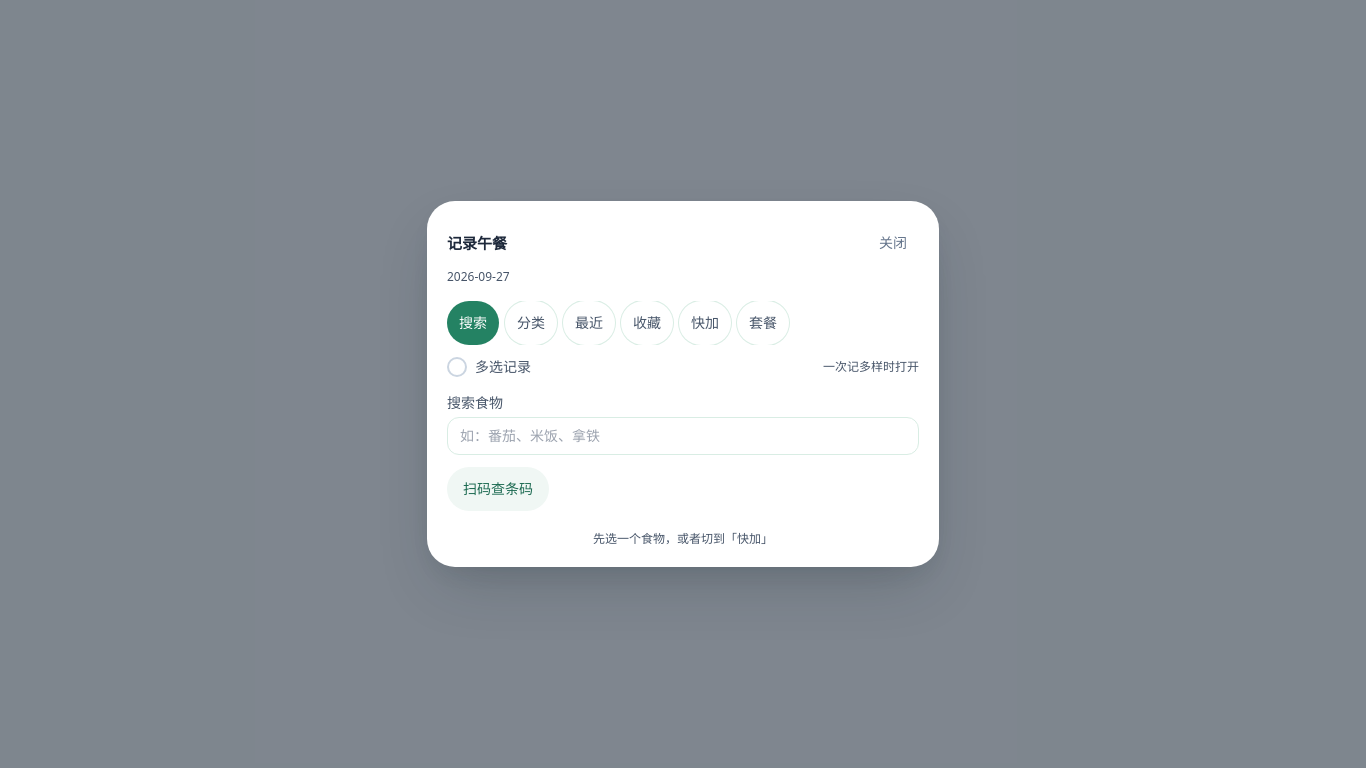
Test: C1 快速加卡同名提示 › 「用库里的」把名称与热量换成库内值
Click the tab "快加" at [705, 323], box [679,301,731,345]
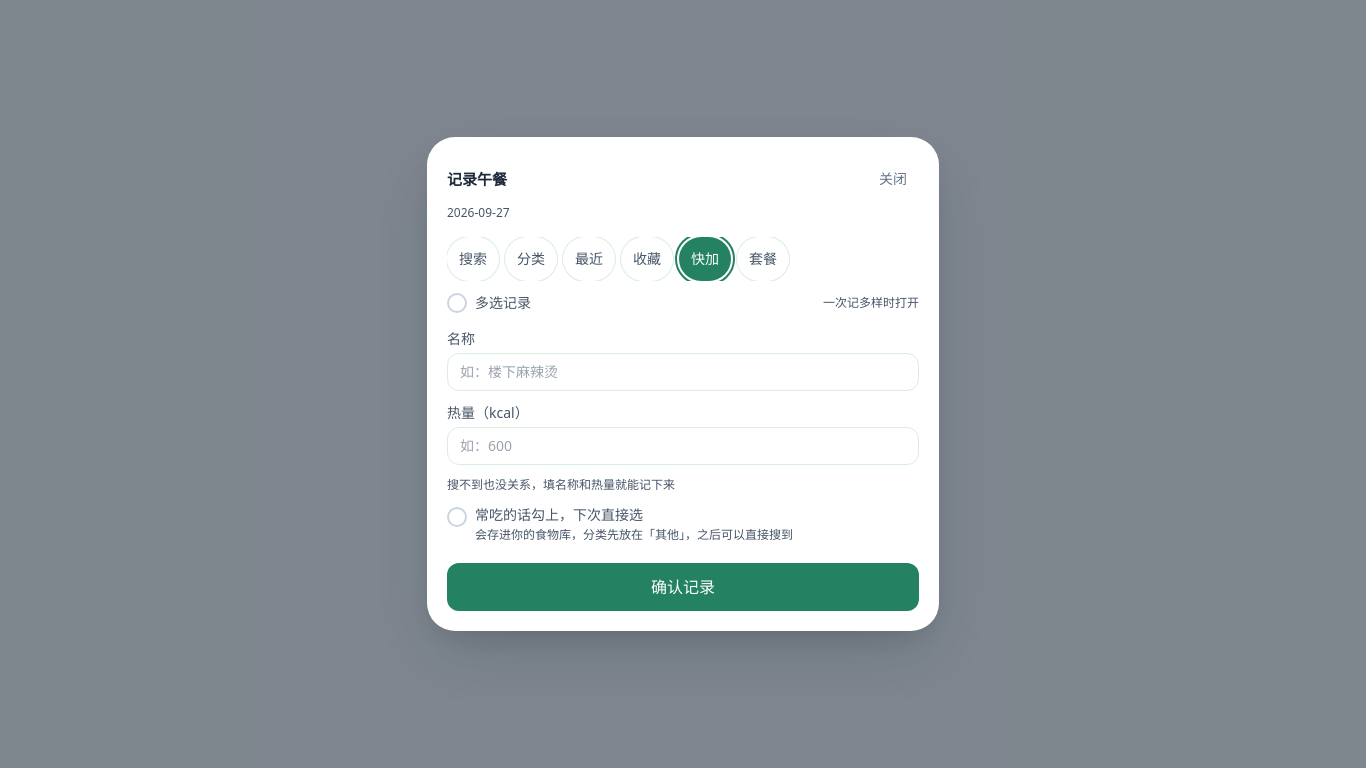
Type "番茄炒蛋" into the field with placeholder "如：楼下麻辣烫" at [683, 372], box [447,353,919,391]
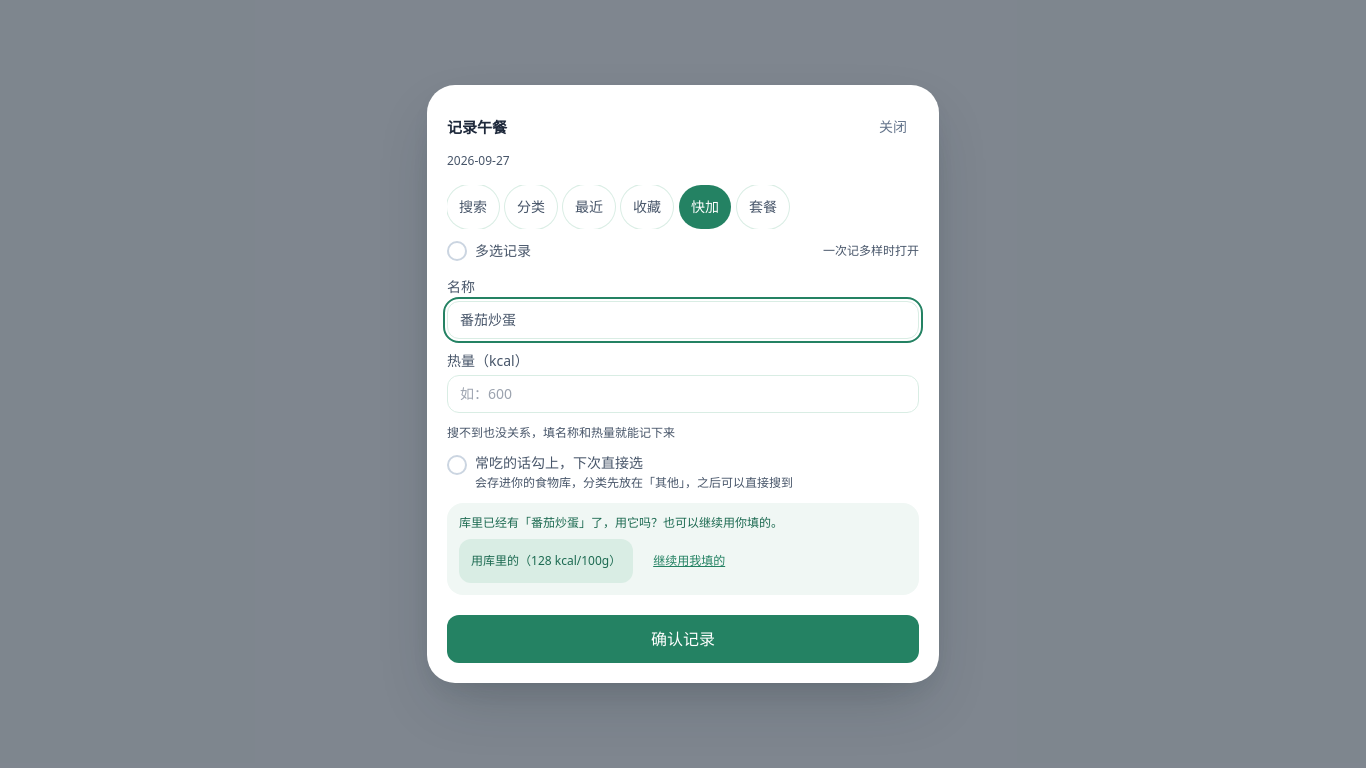
Type "600" into the field with placeholder "如：600" at [683, 394], box [447,375,919,413]
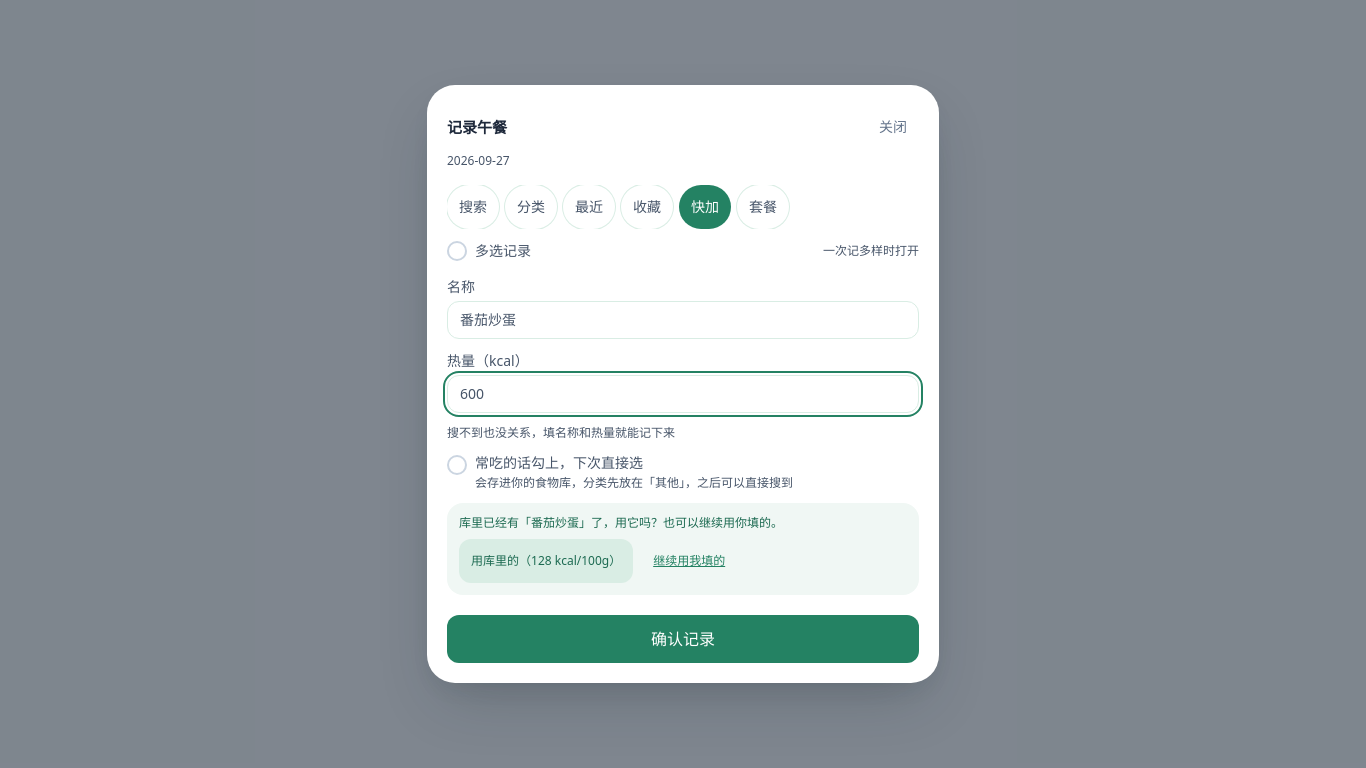
Click the button "用库里的（128 kcal/100g）" at [546, 561], box [459,539,633,583]
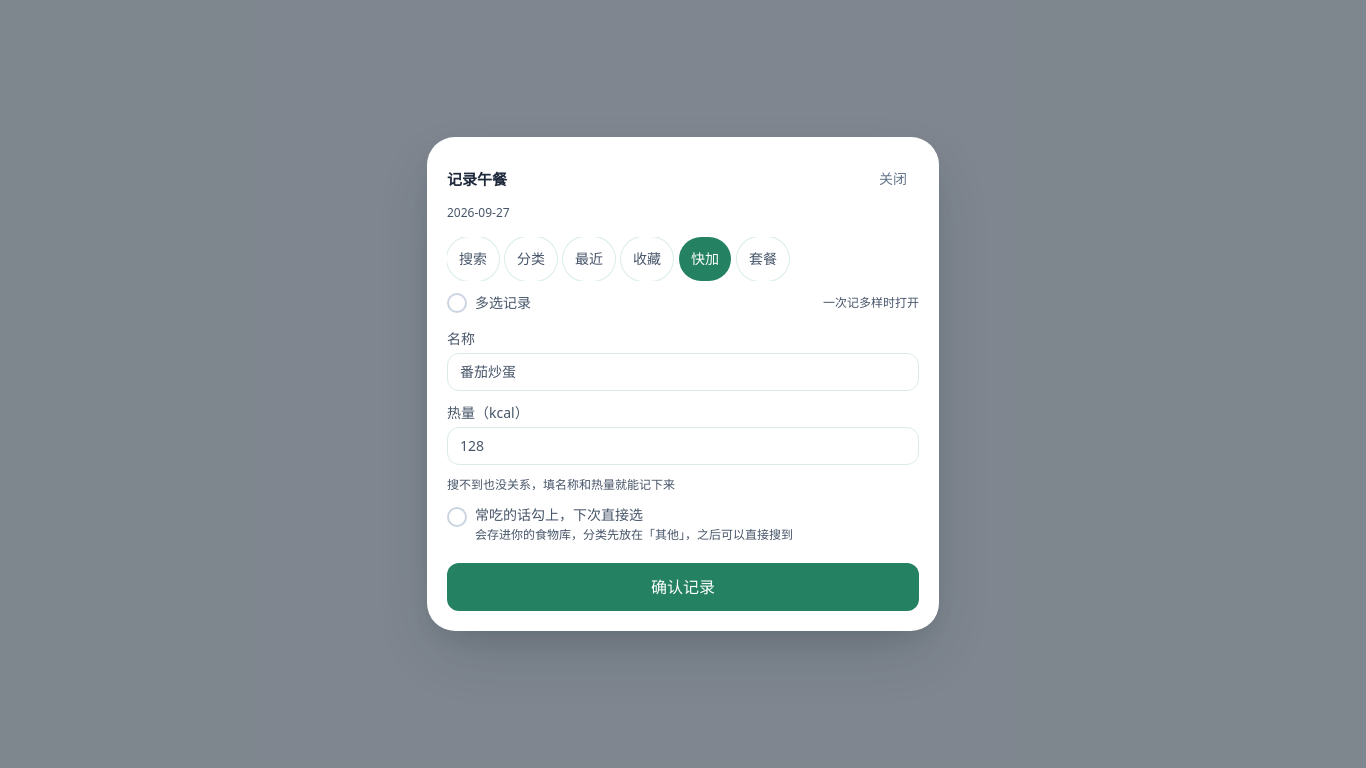
Expected: the field with placeholder "如：600" holds "128", [447,427,919,465]
